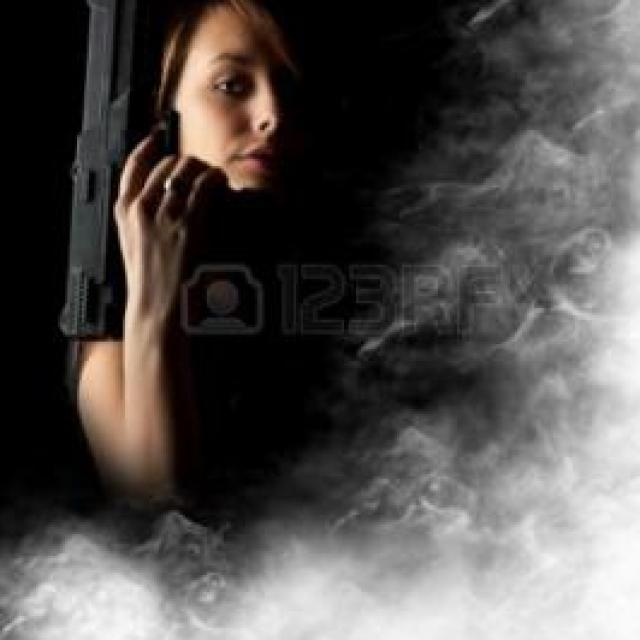pistol: (55, 0, 242, 346)
